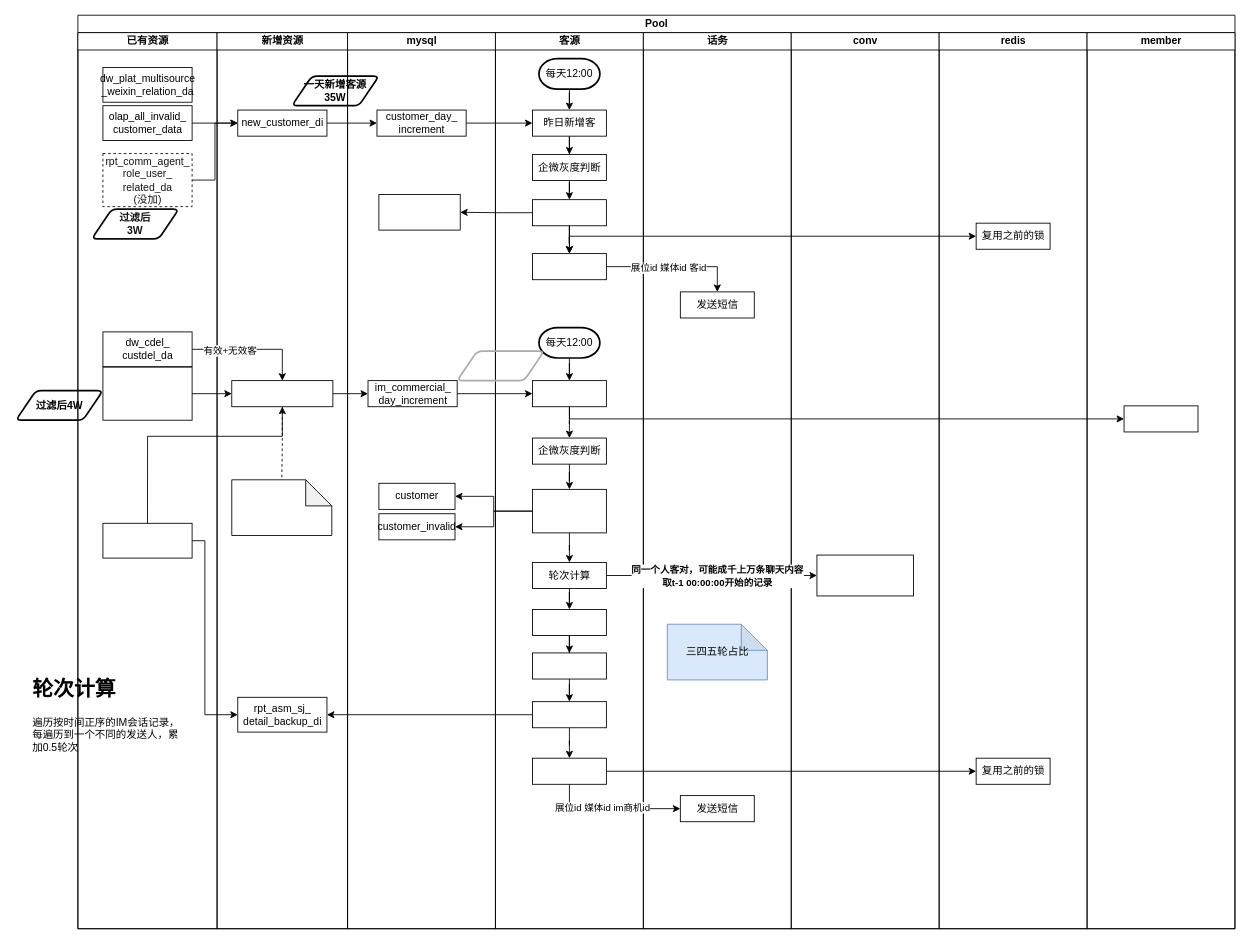
This 1250x944 diagram has some shape labels left out. The shapes that lost their labels are listed below. From the top down, each one's centre as x and y in pixels, then its label:
(x=419, y=212): weixin_relation 不考虑当前绑定/解绑
(x=569, y=212): 未绑过微信
(x=569, y=266): 昨日新增且至今未绑微客
(x=500, y=365): 54W人客对 32W客
(x=147, y=393): rpt_comm_agent_ role_user_ related_da
(x=282, y=393): im_aggr_shangji_di
(x=569, y=393): 昨日IM商机
(x=1160, y=418): 根据ucid获取phone
(x=281, y=507): cust_ucid agent_ucid_list( varchar(2032))
(x=569, y=511): mysql过滤 从未加私过 （有效无效客）
(x=147, y=540): rpt_asm_sj _detail_di
(x=865, y=575): 查询IM会话记录（不区分会话类型、无需解密）
(x=569, y=622): 筛选：轮次≥5轮
(x=569, y=665): 按轮数排序
(x=569, y=714): 存在相同轮次多人
(x=569, y=770): 一名经纪人
